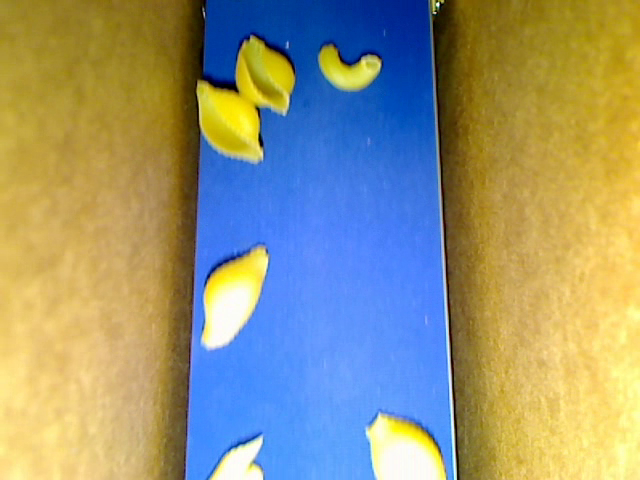elbow: (317, 42, 382, 92)
penne: (207, 433, 263, 479)
shell: (198, 243, 269, 351), (196, 79, 264, 165), (364, 411, 446, 479), (236, 34, 296, 116)
